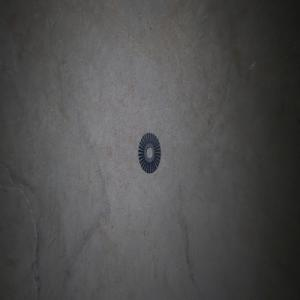Washer: (138, 132, 160, 173)
